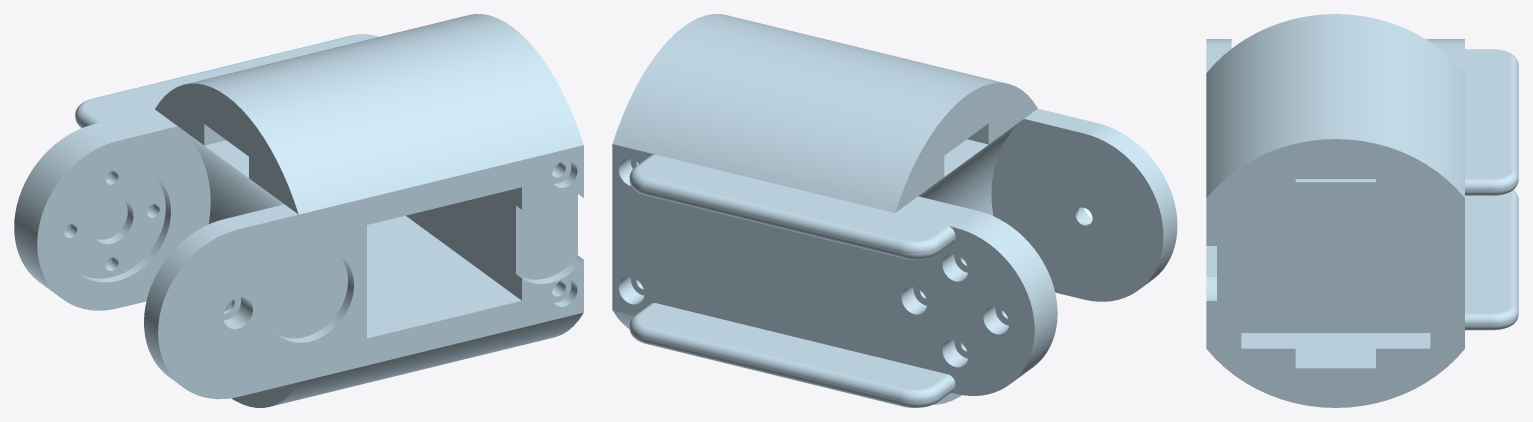
The model's file is _MVGPnbxdoVRLzajDB.gltf.
3 renders of one model, left to right at view 1: azimuth 30°, elevation 25°; view 2: azimuth 150°, elevation 25°; view 3: azimuth 270°, elevation 25°, orthographic. The views are drawn at different scales.
Visible parts, largest first — view 1: SnakeBody; view 2: SnakeBody; view 3: SnakeBody.
Boxes of the visible parts, x1,y1,x2,y2 form: SnakeBody: (14, 14, 583, 407); SnakeBody: (612, 14, 1177, 407); SnakeBody: (1206, 14, 1518, 407).
Size of the model in its own units: 0.0825 by 0.0554 by 0.0583.
